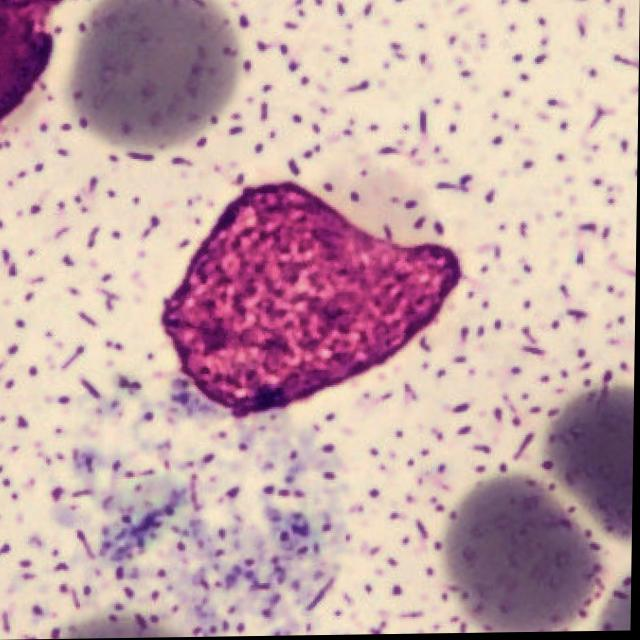Restos celulares: (163, 184, 465, 417)
